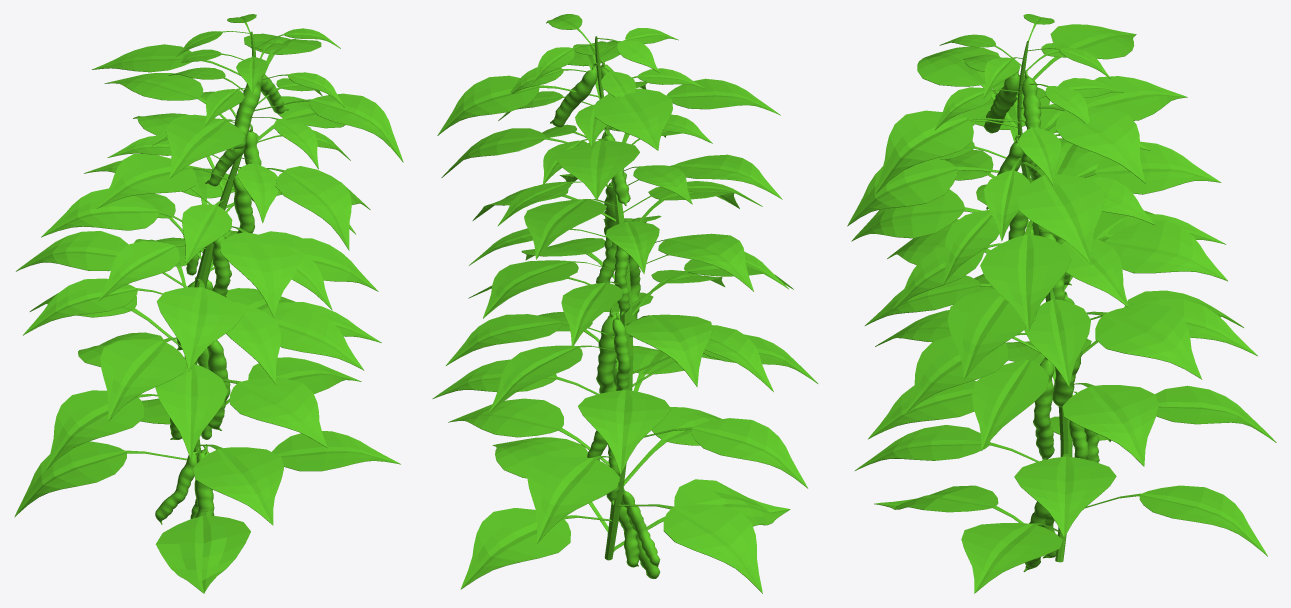
The model's file is soybeans3.fbx.
3 renders of one model, left to right at view 1: azimuth 30°, elevation 25°; view 2: azimuth 150°, elevation 25°; view 3: azimuth 270°, elevation 25°, orthographic. The views are drawn at different scales.
Parts seen in each view (by area): view 1: soy beans stage 3; view 2: soy beans stage 3; view 3: soy beans stage 3.
Boxes of the visible parts, box(x1,y1,x2,y2) form: soy beans stage 3: box(14, 14, 403, 593); soy beans stage 3: box(432, 14, 818, 593); soy beans stage 3: box(847, 14, 1276, 593).
Bounding box in the file's own units: 118 × 176 × 121.
